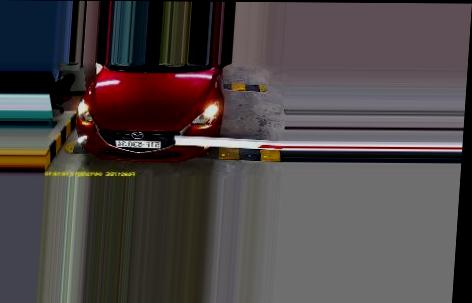License_Plate: (115, 140, 162, 149)
